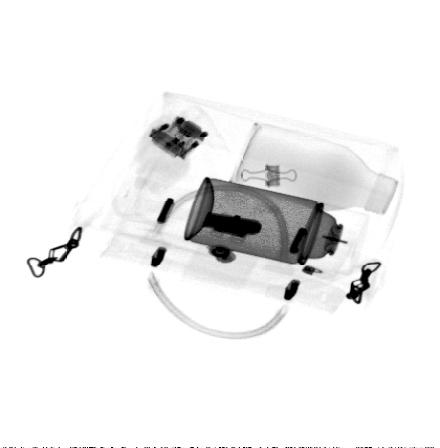Sprayer: (182, 175, 372, 278)
